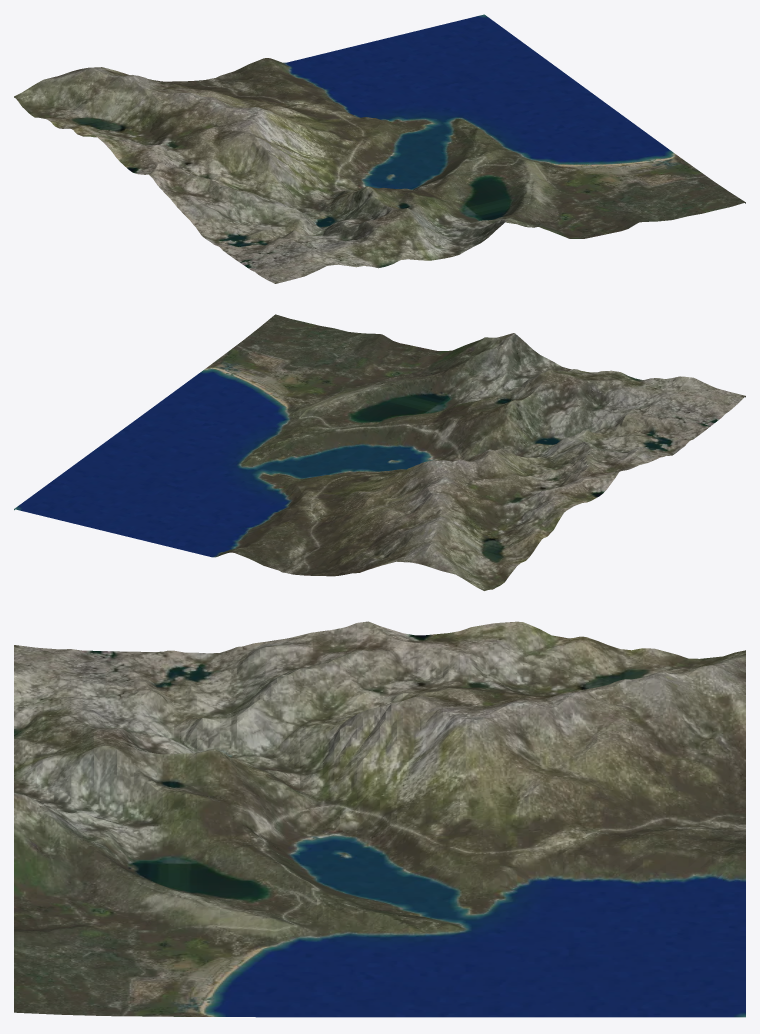
The picture shows the model from 3 angles, top to bottom: view 1: azimuth 30°, elevation 25°; view 2: azimuth 150°, elevation 25°; view 3: azimuth 270°, elevation 25°; orthographic projection. The views are drawn at different scales.
Size of the model in its own units: 8001 by 929 by 7701.
1 material, 1 textured.
